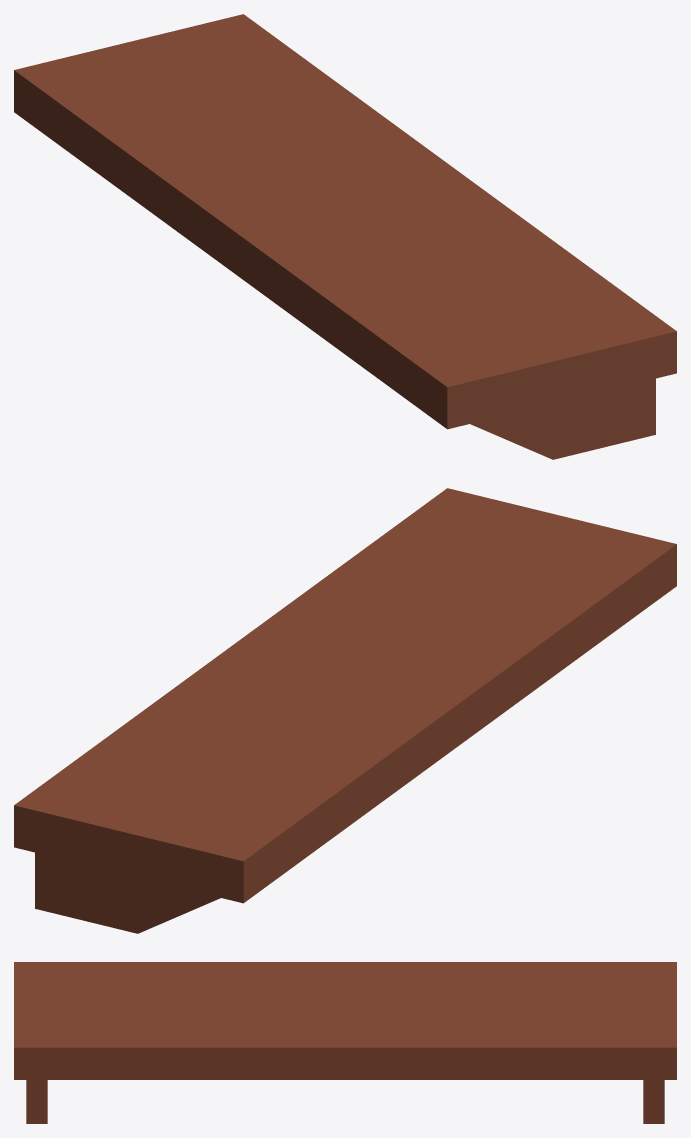
Rendered from polkaFlying.fbx.
3 renders of one model, top to bottom at view 1: azimuth 30°, elevation 25°; view 2: azimuth 150°, elevation 25°; view 3: azimuth 270°, elevation 25°, orthographic. The views are drawn at different scales.
Parts seen in each view (by area): view 1: Polka; view 2: Polka; view 3: Polka.
Boxes of the visible parts, <box> form: Polka: <box>14,14,676,459</box>; Polka: <box>14,488,676,933</box>; Polka: <box>14,962,676,1123</box>.
Bounding box in the file's own units: 356 × 157 × 1164.
